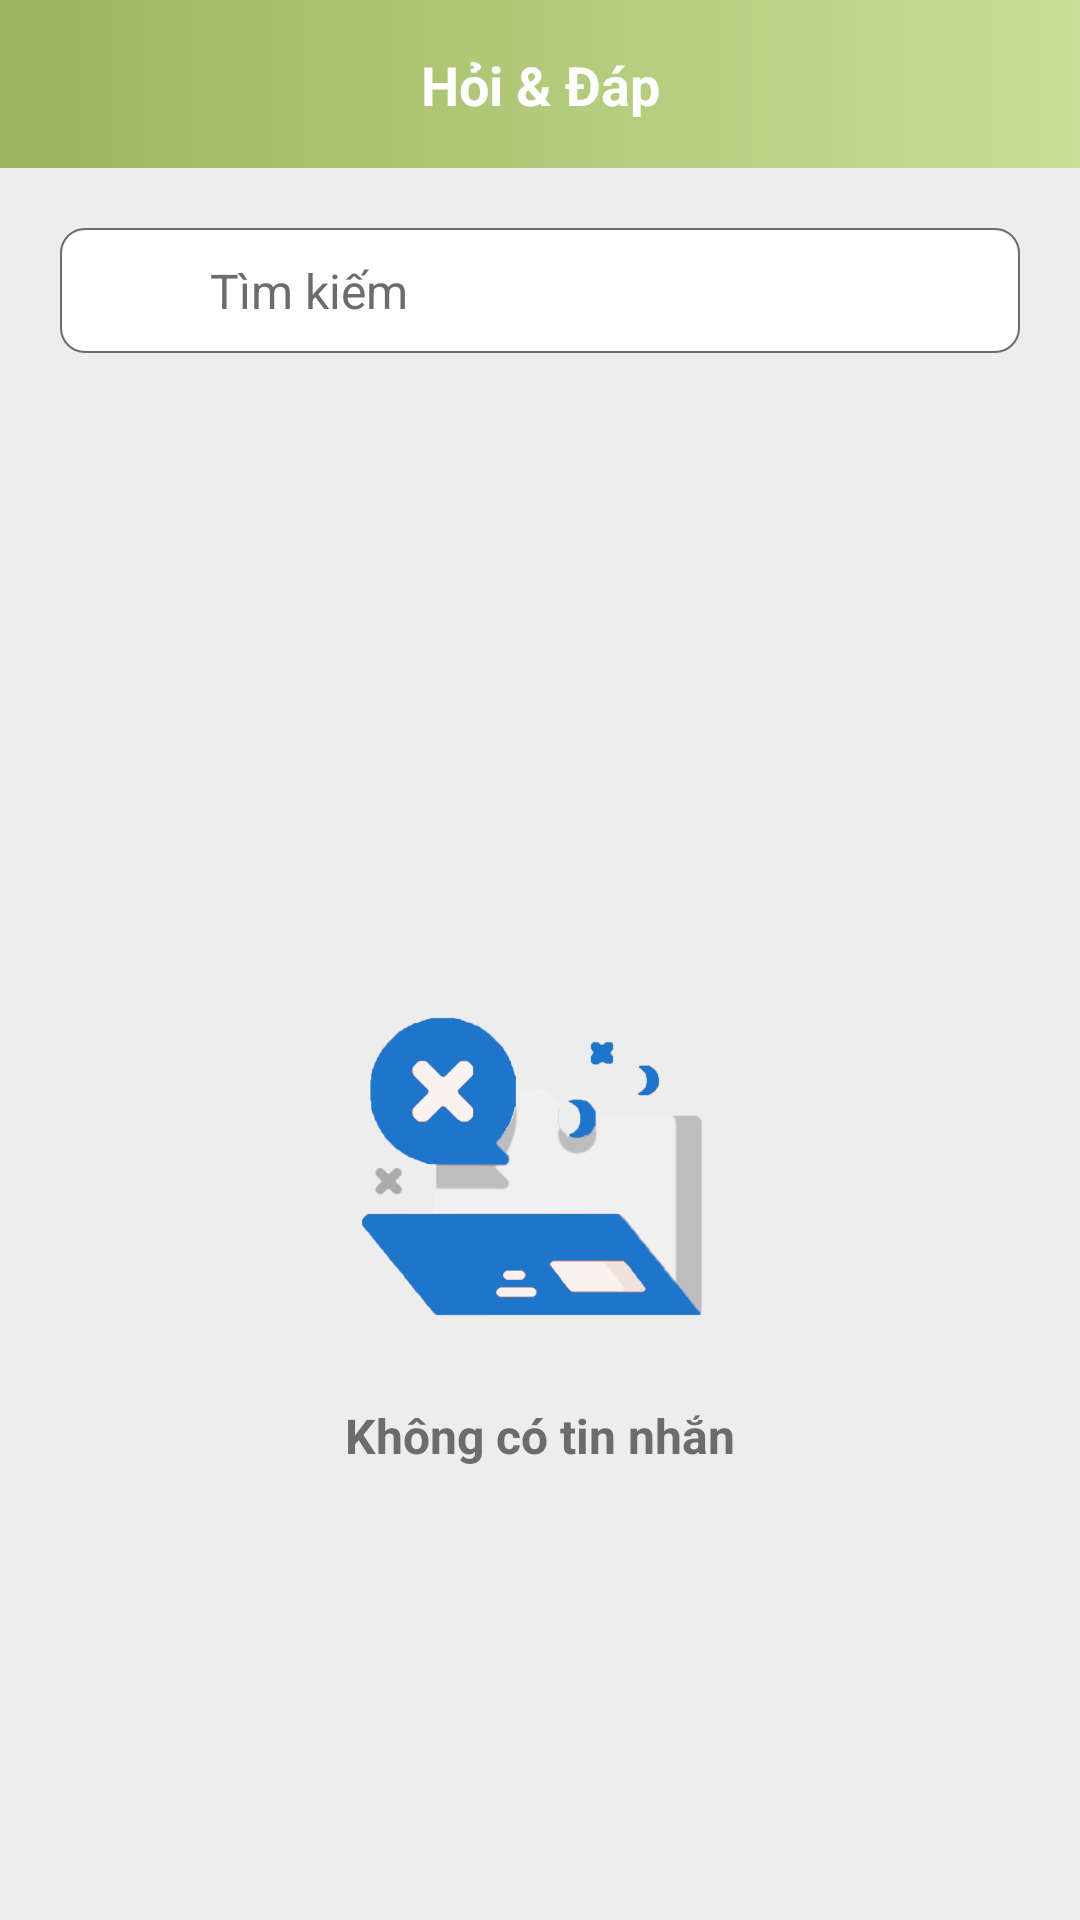

Icon click points for this 1080x1920 phone screenshot, format (x=x, y=y):
no data: (x=532, y=1166)
